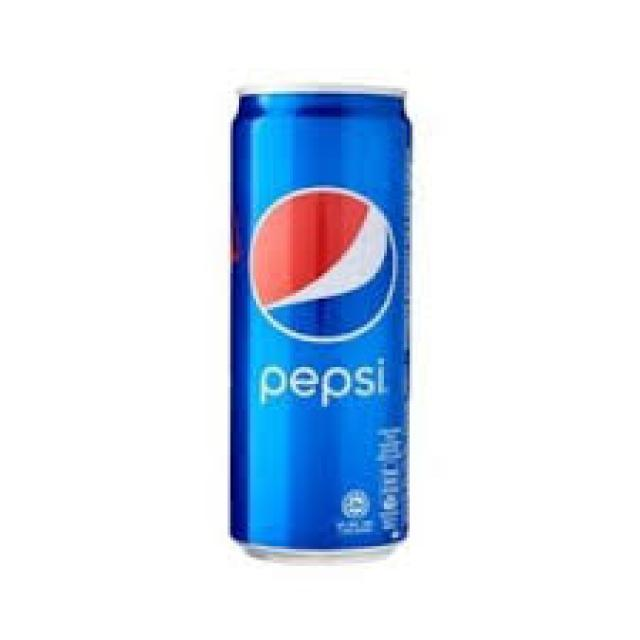Cans: (216, 68, 430, 566)
